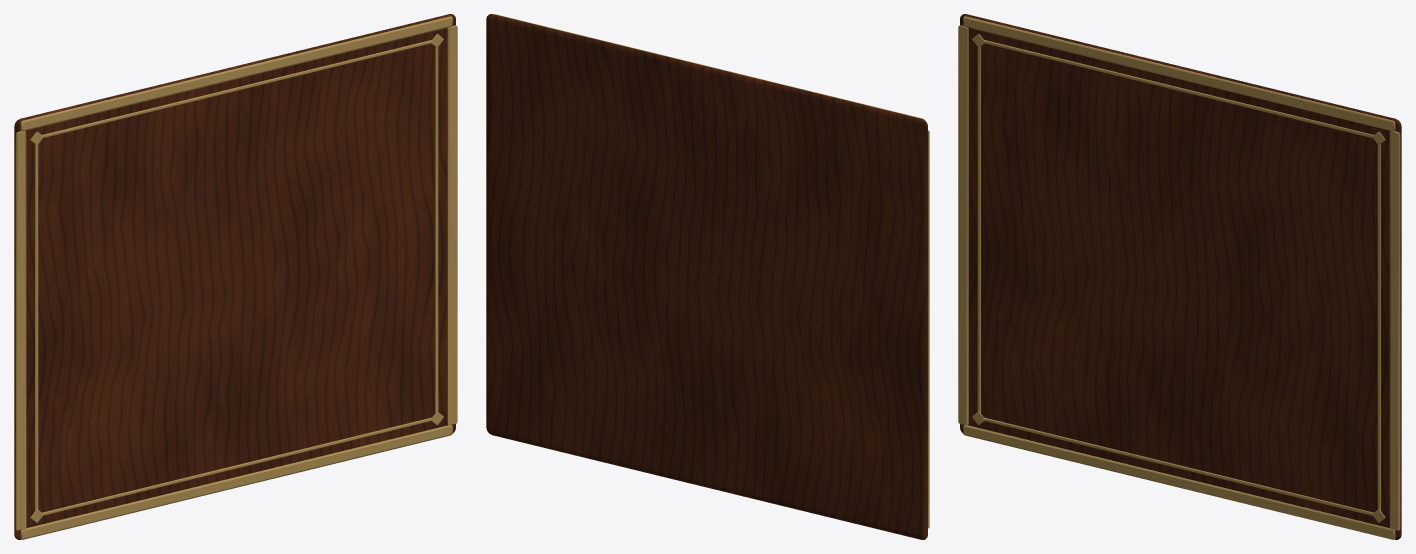
Rendered from ArtDecoMenuBacking.fbx.
3 views of the same model, side by side, from view 1: azimuth 30°, elevation 25°; view 2: azimuth 150°, elevation 25°; view 3: azimuth 330°, elevation 25° (orthographic).
Parts seen in each view (by area): view 1: ArtDecoMenuBacking; view 2: ArtDecoMenuBacking; view 3: ArtDecoMenuBacking.
Part boxes in pixels (x1,y1,x2,y2): ArtDecoMenuBacking: [14, 14, 457, 539]; ArtDecoMenuBacking: [486, 14, 929, 539]; ArtDecoMenuBacking: [958, 14, 1401, 539].
Bounding box in the file's own units: 90 × 82 × 1.2.
